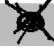not correct: (4, 0, 54, 45)
